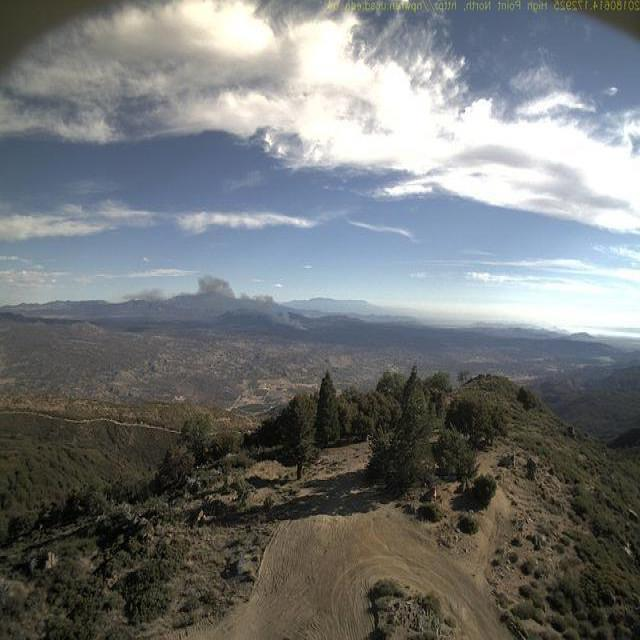Smoke: (120, 270, 311, 334)
